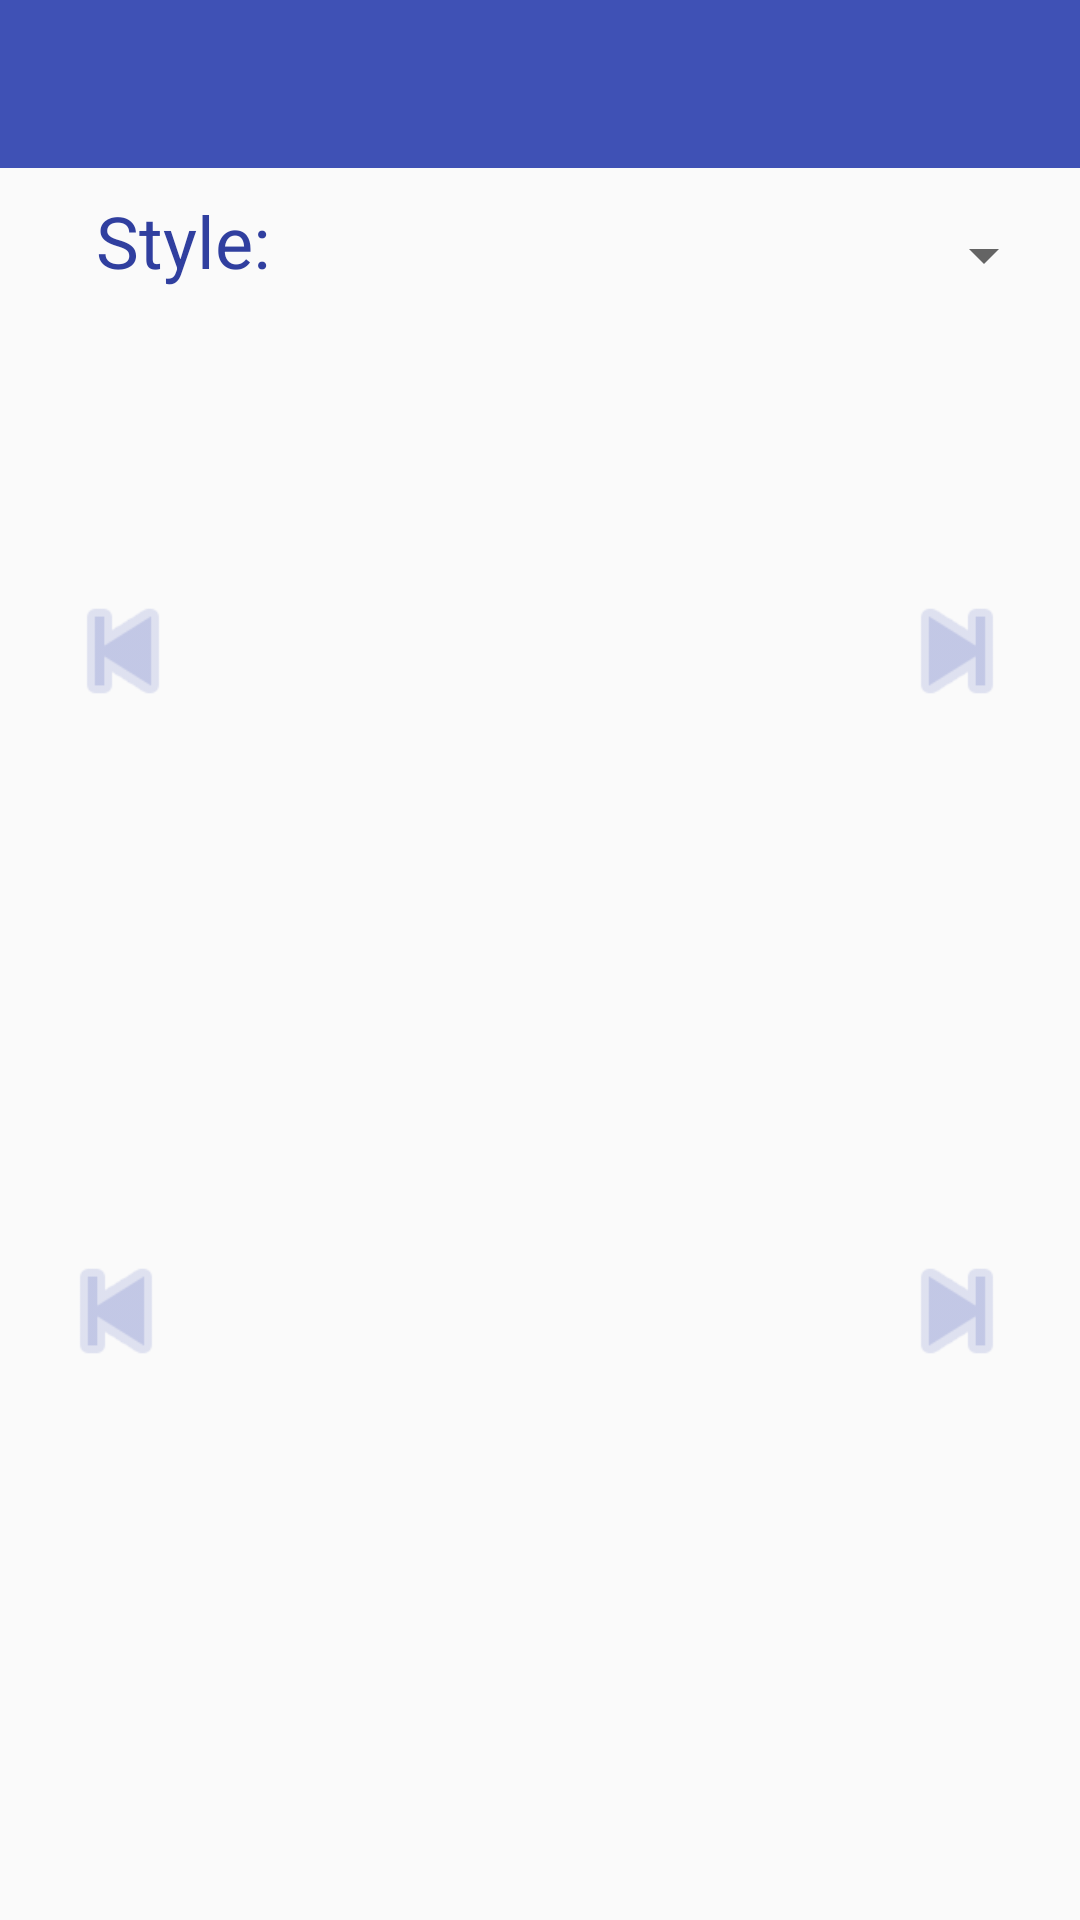

Where icons sit on this 1080px×1920px app screen, as (x1, y1, x2, y2):
next: (922, 609, 992, 693), (922, 1269, 992, 1353)
previous: (88, 609, 158, 693), (81, 1269, 151, 1353)
